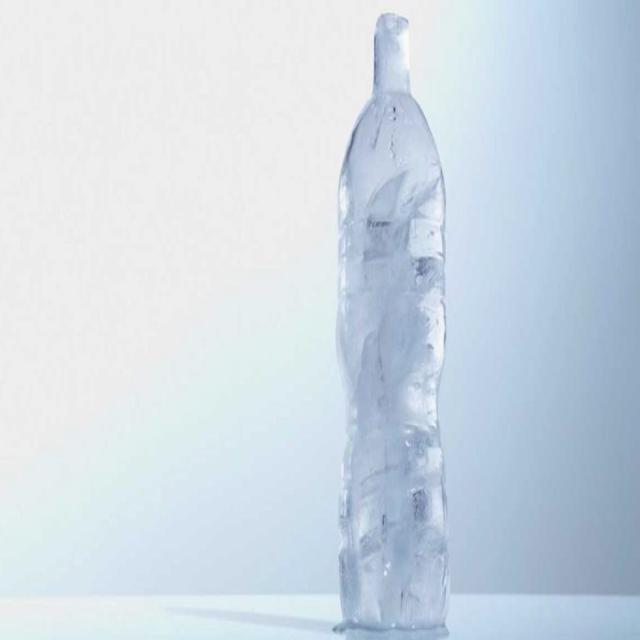bottle: (334, 0, 454, 627)
